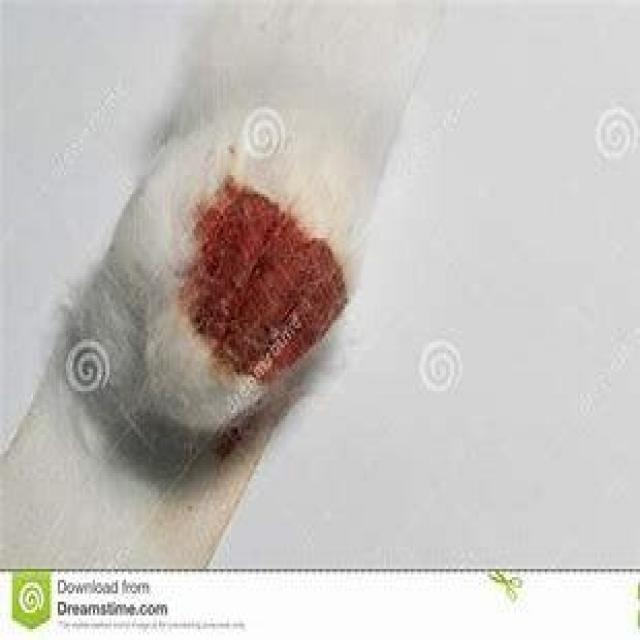wound: (162, 170, 366, 374)
